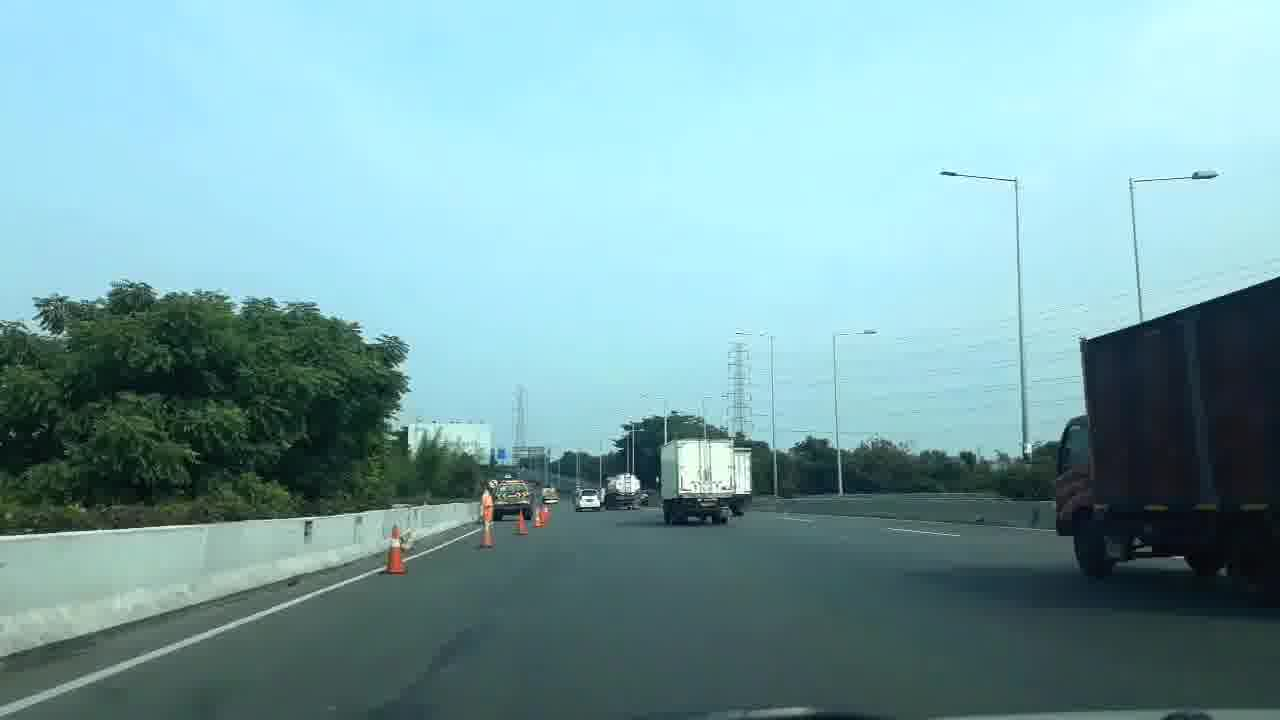plate_positive: (699, 502, 717, 507)
